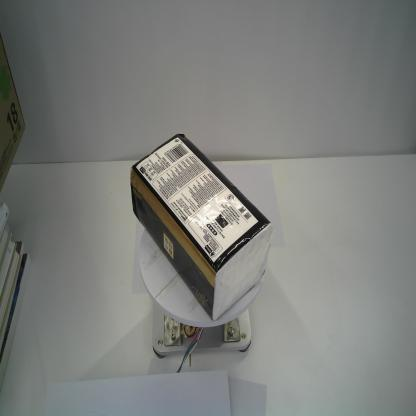Tissue: (129, 131, 275, 323)
